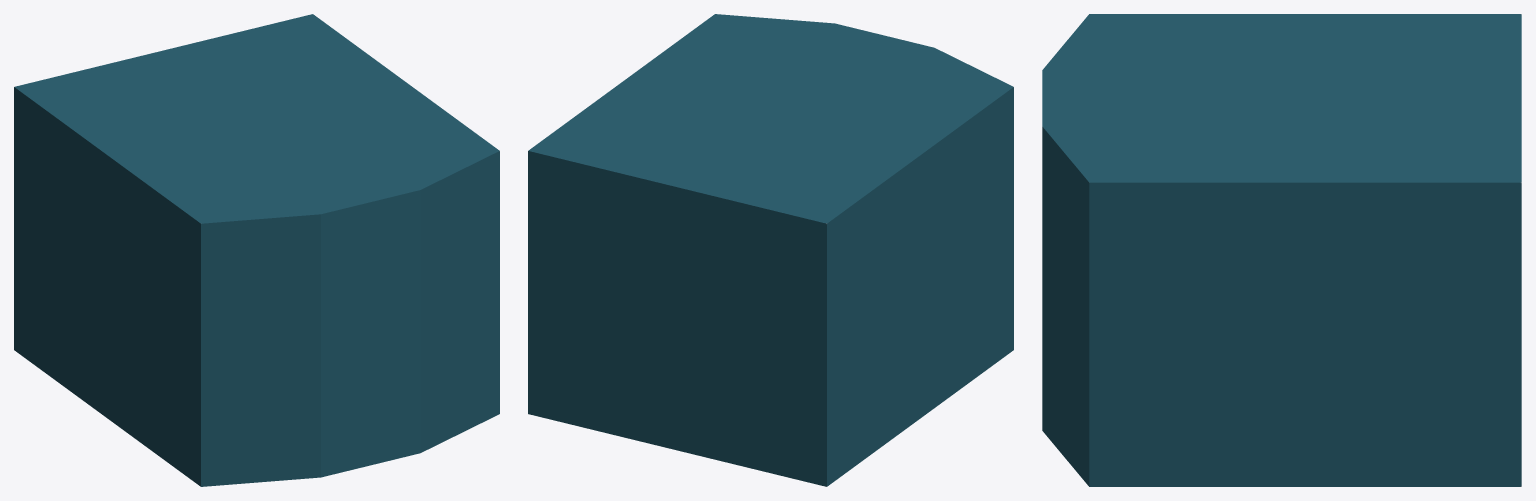
Rendered from house2.glb.
3 views of the same model, side by side, from view 1: azimuth 30°, elevation 25°; view 2: azimuth 150°, elevation 25°; view 3: azimuth 270°, elevation 25° (orthographic). The views are drawn at different scales.
Parts seen in each view (by area): view 1: house1 -col; view 2: house1 -col; view 3: house1 -col.
Part boxes in pixels (x1,y1,x2,y2): house1 -col: (14,14,499,486); house1 -col: (528,14,1013,486); house1 -col: (1042,14,1521,486).
Size of the model in its own units: 5.54 by 4.66 by 6.65.
1 material, 1 textured.
